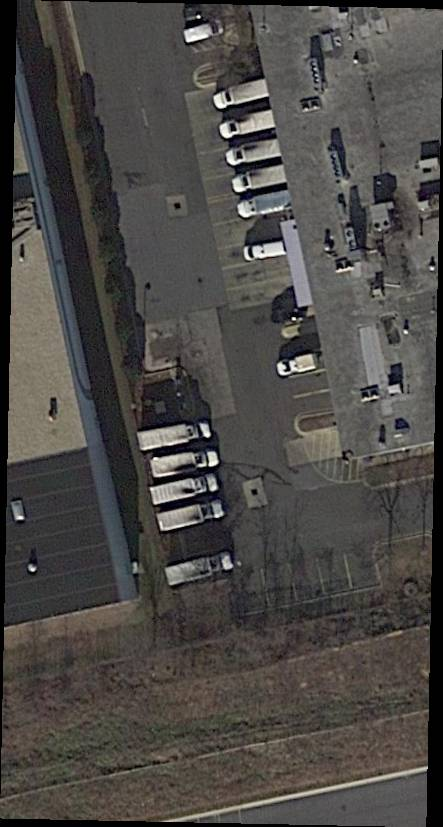large vehicle: (136, 420, 211, 456), (164, 551, 234, 589), (156, 501, 224, 535), (149, 473, 219, 505), (151, 449, 219, 481), (212, 78, 271, 111), (219, 110, 277, 140), (238, 190, 293, 221), (226, 139, 282, 168), (232, 165, 287, 194)
small vehicle: (273, 352, 326, 378), (182, 17, 229, 45), (242, 241, 287, 261)
